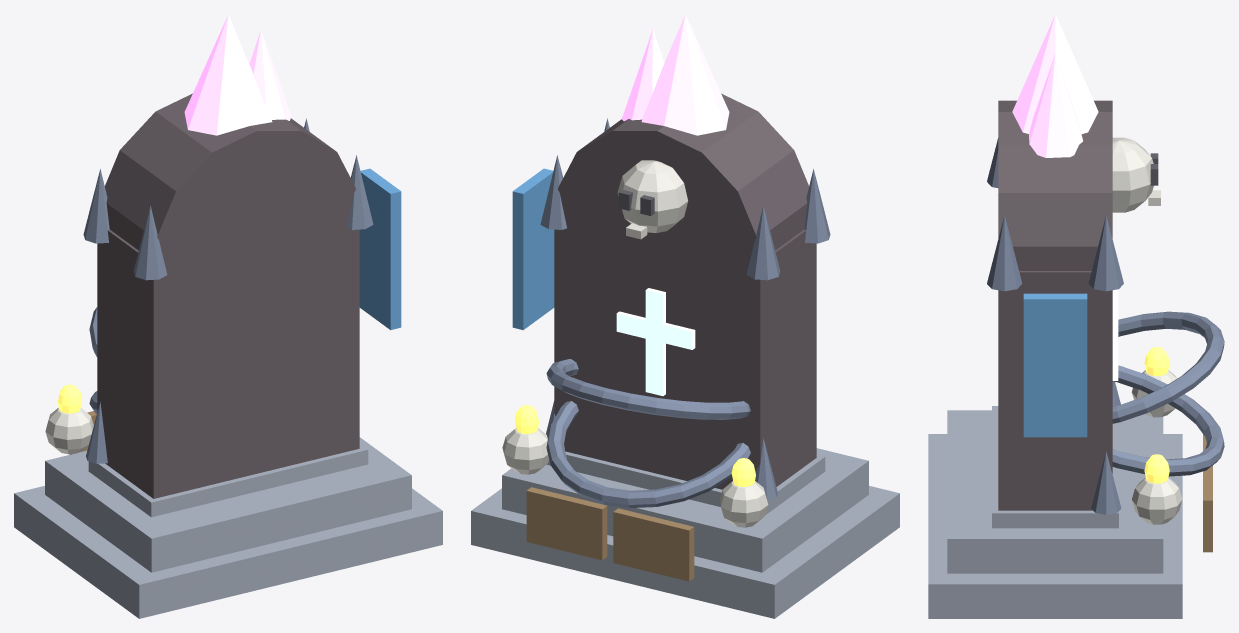
Rendered from tombstone.glb.
The picture shows the model from 3 angles, left to right: view 1: azimuth 30°, elevation 25°; view 2: azimuth 150°, elevation 25°; view 3: azimuth 270°, elevation 25°; orthographic projection.
Parts seen in each view (by area): view 1: tombstone; view 2: tombstone; view 3: tombstone.
Part boxes in pixels (<box>): tombstone: <box>14,14,442,618</box>; tombstone: <box>471,14,899,618</box>; tombstone: <box>928,14,1224,618</box>.
Size of the model in its own units: 2.85 by 4.6 by 2.33.
